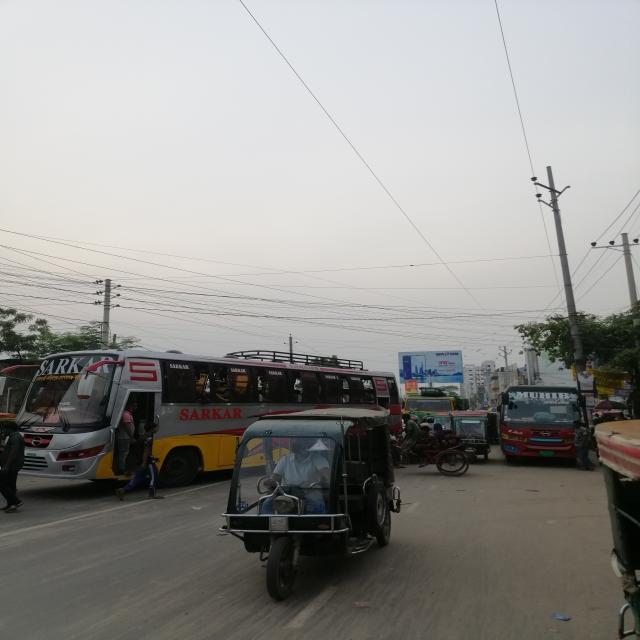Bus: (1, 335, 434, 510), (486, 373, 604, 501)
Easybike: (203, 392, 443, 622), (440, 397, 508, 478)
